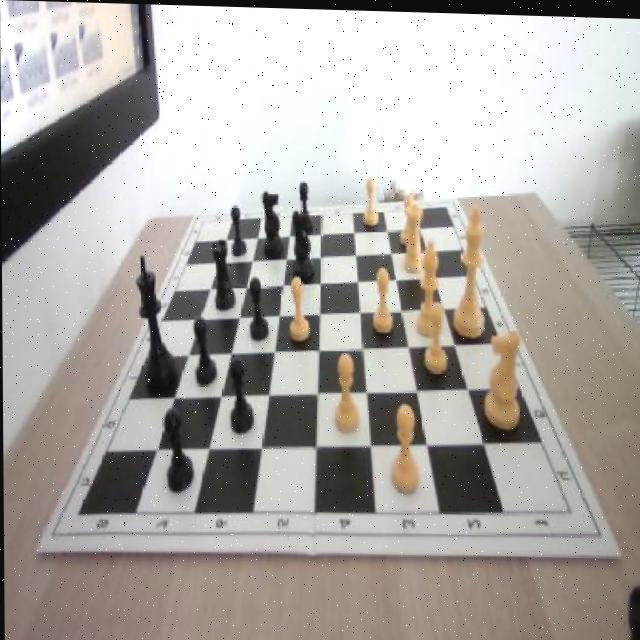black-bishop: (134, 255, 176, 392)
black-king: (288, 202, 317, 284), (261, 186, 283, 258)
black-knight: (164, 407, 193, 491), (227, 354, 253, 432), (193, 315, 218, 385), (246, 273, 268, 341), (230, 204, 246, 257), (296, 178, 312, 228)
black-queen: (211, 233, 237, 309)
black-rook: (412, 236, 442, 334)
white-bishop: (451, 206, 485, 337)
white-king: (483, 328, 522, 430)
white-knight: (389, 401, 422, 492), (329, 348, 361, 433), (422, 298, 450, 374), (371, 266, 396, 334), (287, 273, 308, 339), (361, 176, 380, 225), (399, 192, 417, 243)
white-queen: (401, 200, 425, 271)
